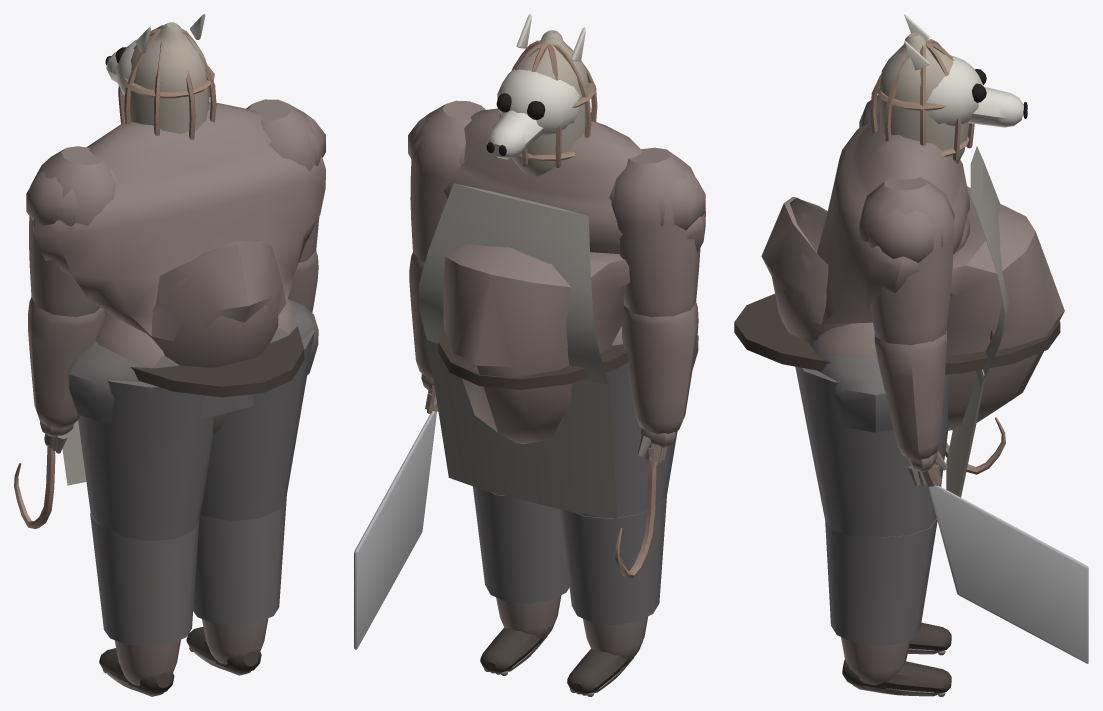
File: en_boss_butcher.gltf
3 renders of one model, left to right at view 1: azimuth 30°, elevation 25°; view 2: azimuth 150°, elevation 25°; view 3: azimuth 270°, elevation 25°, orthographic.
Parts seen in each view (by area): view 1: Spine, LegL, ShinL, ShinR, Hips, LegR, ForeL, ArmL, V1_Sack, ArmR, V2_Cage, V3_PigSkull (+1 smaller); view 2: Spine, Hips, ShinL, ShinR, ArmL, ForeR, ForeL, V3_PigSkull, ArmR, LegL, V1_Sack, V2_Cage; view 3: Spine, ForeR, ShinR, LegR, Hips, ArmR, V3_PigSkull, V1_Sack, V2_Cage, ShinL.
Boxes of the visible parts, x1,y1,x2,y2 form: Spine: [26, 102, 325, 367]; LegL: [78, 311, 214, 541]; ShinL: [90, 513, 199, 696]; ShinR: [186, 495, 286, 675]; Hips: [62, 299, 318, 485]; LegR: [200, 299, 314, 520]; ForeL: [14, 297, 104, 528]; ArmL: [29, 146, 115, 317]; V1_Sack: [124, 22, 208, 133]; ArmR: [246, 99, 320, 262]; V2_Cage: [118, 25, 216, 139]; V3_PigSkull: [105, 14, 205, 95]; Spine: [408, 108, 705, 443]; Hips: [427, 333, 698, 518]; ShinL: [560, 494, 666, 696]; ShinR: [473, 486, 569, 675]; ArmL: [611, 147, 700, 317]; ForeR: [354, 252, 438, 649]; ForeL: [615, 302, 698, 578]; V3_PigSkull: [486, 14, 585, 159]; ArmR: [410, 100, 485, 261]; LegL: [578, 326, 677, 518]; V1_Sack: [512, 30, 588, 176]; V2_Cage: [499, 40, 597, 167]; Spine: [761, 111, 1064, 430]; ForeR: [874, 327, 1088, 663]; ShinR: [825, 518, 951, 696]; LegR: [795, 322, 949, 537]; Hips: [734, 293, 1060, 497]; ArmR: [859, 177, 954, 344]; V3_PigSkull: [904, 14, 1027, 127]; V1_Sack: [879, 32, 969, 163]; V2_Cage: [870, 39, 974, 160]; ShinL: [908, 622, 951, 655].
Size of the model in its own units: 0.8539 by 1.84 by 0.9166.
